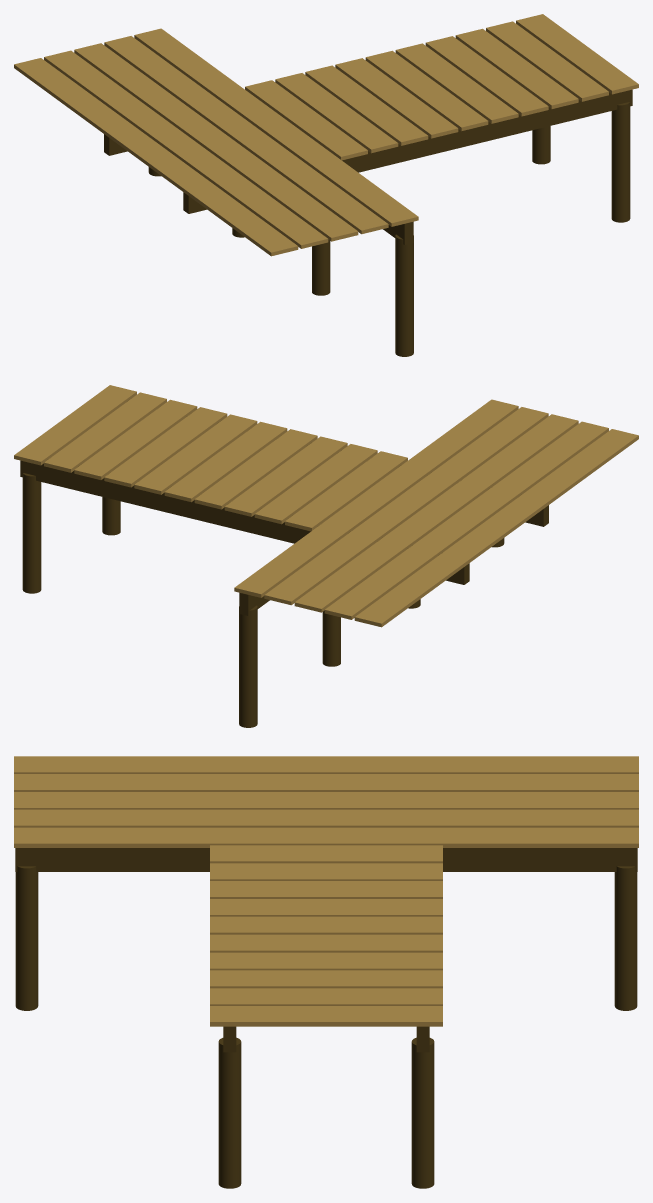
File: Dock.fbx
3 renders of one model, top to bottom at view 1: azimuth 30°, elevation 25°; view 2: azimuth 150°, elevation 25°; view 3: azimuth 270°, elevation 25°, orthographic. The views are drawn at different scales.
Parts seen in each view (by area): view 1: pCube18, pCube16, pCube14, pCube17, pCube15, pCube1, pCube11, pCube7, pCube10, pCube8, pCube9, pCube12 (+8 smaller); view 2: pCube18, pCube16, pCube14, pCube17, pCube15, pCube2, pCube7, pCube11, pCube8, pCube10, pCube9, pCube12 (+8 smaller); view 3: pCube14, pCube15, pCube16, pCube17, pCube18, pCube3, pCube4, pCube6, pCube7, pCube8, pCube9, pCube13 (+8 smaller).
Boxes of the visible parts, x1,y1,x2,y2 form: pCube18: (14,58,298,256); pCube16: (74,43,358,241); pCube14: (134,28,418,226); pCube17: (44,50,328,248); pCube15: (104,36,388,234); pCube1: (183,89,632,213); pCube11: (305,65,428,145); pCube7: (425,36,548,116); pCube10: (335,58,458,138); pCube8: (395,43,518,123); pCube9: (365,50,488,131); pCube12: (275,73,398,153); pCube18: (354,429,638,627); pCube16: (294,414,578,612); pCube14: (234,399,518,597); pCube17: (324,421,608,619); pCube15: (264,407,548,605); pCube2: (20,460,469,584); pCube7: (104,407,227,487); pCube11: (224,436,347,516); pCube8: (134,414,257,494); pCube10: (194,429,317,509); pCube9: (164,421,287,502); pCube12: (254,444,377,524); pCube14: (14,827,638,847); pCube15: (14,809,638,827); pCube16: (14,792,638,809); pCube17: (14,774,638,791); pCube18: (14,756,638,773); pCube3: (15,848,637,871); pCube4: (210,1006,442,1026); pCube6: (210,970,442,988); pCube7: (210,952,442,970); pCube8: (210,934,442,952); pCube9: (210,916,442,934); pCube13: (210,845,442,863).
Bounding box in the file's own units: 20.85 × 6.14 × 20.72.
